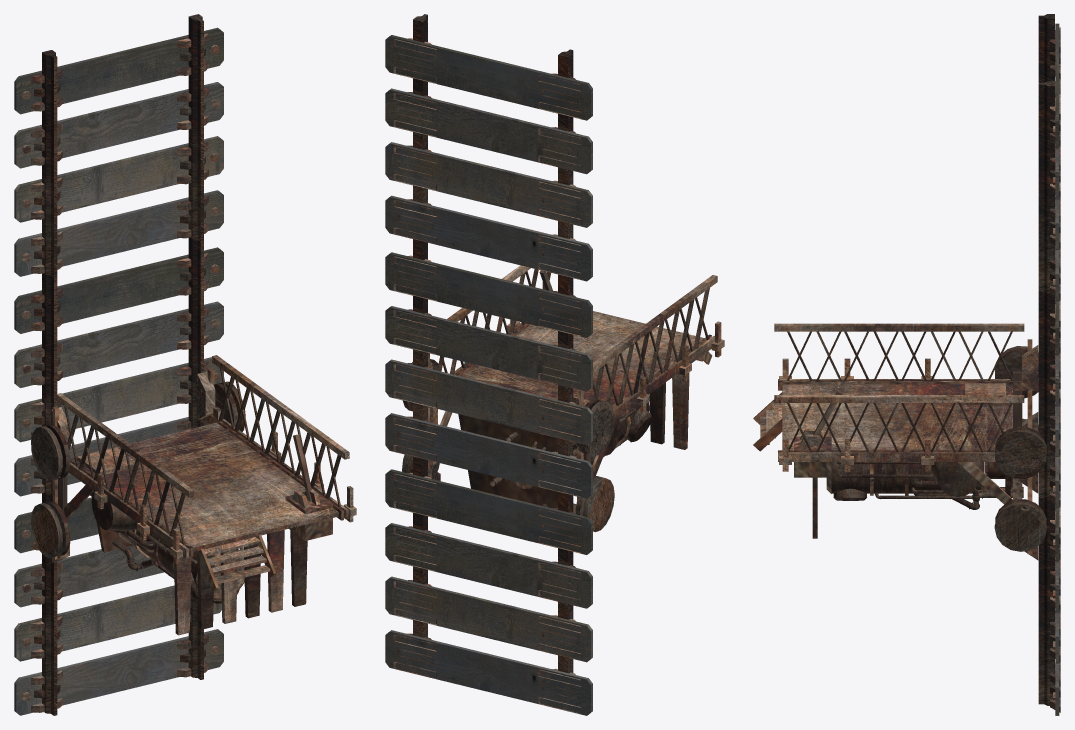
Rendered from RailElevator_FBX.fbx.
The picture shows the model from 3 angles, left to right: view 1: azimuth 30°, elevation 25°; view 2: azimuth 150°, elevation 25°; view 3: azimuth 270°, elevation 25°; orthographic projection. The views are drawn at different scales.
Parts seen in each view (by area): view 1: RailElevator_rail_112 (×3), RailElevator_rail_79 (×3), RailElevator_elevator_2, RailElevator_rail_102 (×3), RailElevator_rail_74 (×3), RailElevator_rail_67 (×3), RailElevator_rail_1 (×3), RailElevator_elevator_72, RailElevator_elevator_42, RailElevator_elevator_16, RailElevator_elevator_124, RailElevator_elevator_64 (+11 smaller); view 2: RailElevator_rail_102 (×3), RailElevator_rail_79 (×3), RailElevator_rail_74 (×3), RailElevator_rail_112 (×3), RailElevator_elevator_2, RailElevator_rail_67 (×3), RailElevator_rail_1 (×3), RailElevator_elevator_63, RailElevator_elevator_72, RailElevator_elevator_64, RailElevator_elevator_16, RailElevator_elevator_124 (+2 smaller); view 3: RailElevator_elevator_2, RailElevator_rail_1 (×3), RailElevator_elevator_72, RailElevator_elevator_122, RailElevator_elevator_121, RailElevator_elevator_42, RailElevator_elevator_7, RailElevator_elevator_011, RailElevator_elevator_118, RailElevator_elevator_28, RailElevator_rail_67, RailElevator_elevator_32 (+7 smaller).
Part boxes in pixels (left/top/right/bottom): RailElevator_rail_112 (×3): left=14, top=136, right=223, bottom=661; RailElevator_rail_79 (×3): left=14, top=82, right=223, bottom=607; RailElevator_elevator_2: left=71, top=422, right=338, bottom=551; RailElevator_rail_102 (×3): left=14, top=190, right=223, bottom=715; RailElevator_rail_74 (×3): left=14, top=27, right=223, bottom=553; RailElevator_rail_67 (×3): left=42, top=50, right=57, bottom=715; RailElevator_rail_1 (×3): left=188, top=14, right=203, bottom=679; RailElevator_elevator_72: left=56, top=393, right=193, bottom=497; RailElevator_elevator_42: left=212, top=355, right=349, bottom=459; RailElevator_elevator_16: left=31, top=503, right=62, bottom=558; RailElevator_elevator_124: left=31, top=426, right=62, bottom=480; RailElevator_elevator_64: left=174, top=556, right=191, bottom=635; RailElevator_rail_102 (×3): left=385, top=195, right=592, bottom=715; RailElevator_rail_79 (×3): left=385, top=88, right=592, bottom=608; RailElevator_rail_74 (×3): left=385, top=35, right=592, bottom=554; RailElevator_rail_112 (×3): left=385, top=142, right=592, bottom=662; RailElevator_elevator_2: left=460, top=311, right=703, bottom=405; RailElevator_rail_67 (×3): left=558, top=49, right=573, bottom=673; RailElevator_rail_1 (×3): left=413, top=14, right=427, bottom=637; RailElevator_elevator_63: left=458, top=414, right=557, bottom=508; RailElevator_elevator_72: left=593, top=275, right=717, bottom=372; RailElevator_elevator_64: left=672, top=373, right=689, bottom=449; RailElevator_elevator_16: left=583, top=477, right=614, bottom=532; RailElevator_elevator_124: left=584, top=401, right=614, bottom=455; RailElevator_elevator_2: left=782, top=384, right=1012, bottom=450; RailElevator_rail_1 (×3): left=1038, top=81, right=1054, bottom=705; RailElevator_elevator_72: left=774, top=323, right=1024, bottom=331; RailElevator_elevator_122: left=994, top=502, right=1047, bottom=551; RailElevator_elevator_121: left=995, top=430, right=1046, bottom=478; RailElevator_elevator_42: left=774, top=395, right=1024, bottom=402; RailElevator_elevator_7: left=778, top=452, right=995, bottom=461; RailElevator_elevator_011: left=831, top=462, right=904, bottom=493; RailElevator_elevator_118: left=931, top=462, right=984, bottom=496; RailElevator_elevator_28: left=778, top=381, right=1038, bottom=390; RailElevator_rail_67: left=1038, top=14, right=1054, bottom=82; RailElevator_elevator_32: left=794, top=436, right=831, bottom=477.
Size of the model in its own units: 255 by 773 by 347.
Materials: 3 (3 with a texture image).
